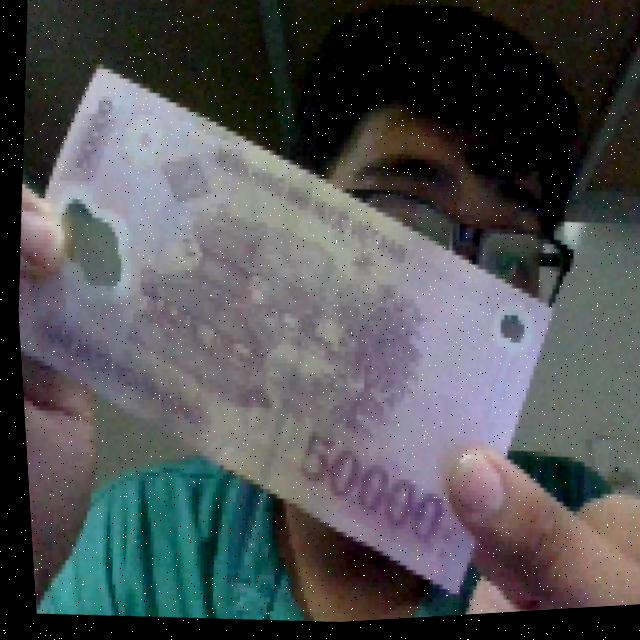50 000 VND: (3, 28, 585, 631)
